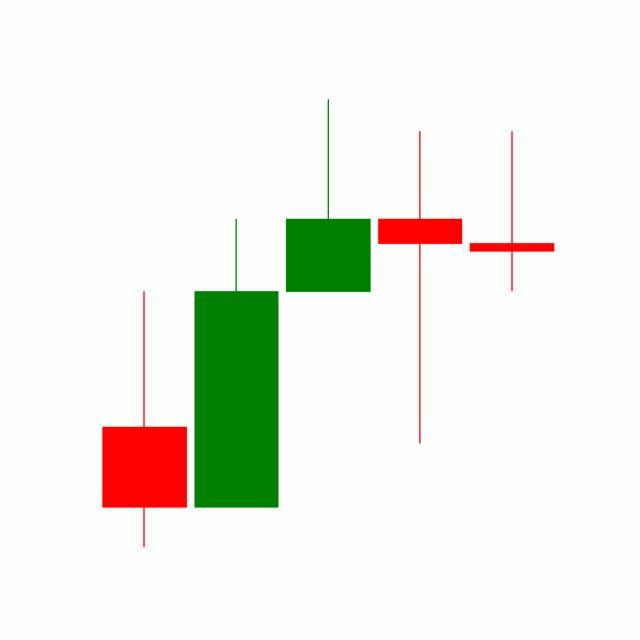Spinning Top: (466, 130, 559, 295)
